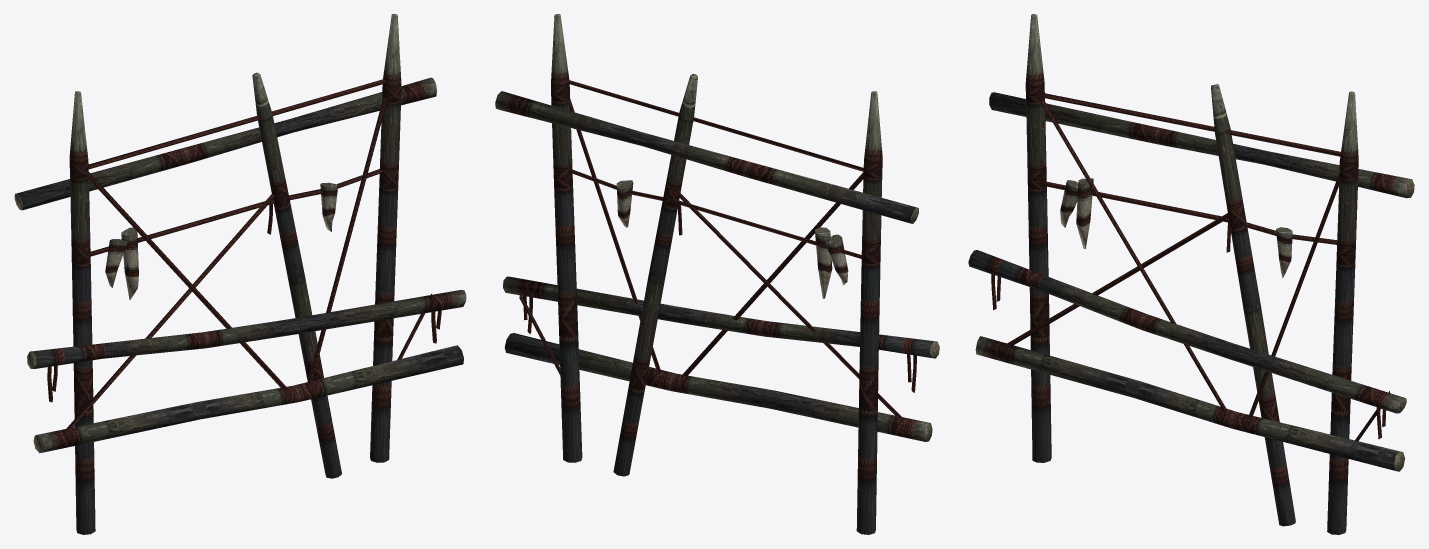
Rendered from camp_redthief_fence_01.fbx.
3 views of the same model, side by side, from view 1: azimuth 30°, elevation 25°; view 2: azimuth 150°, elevation 25°; view 3: azimuth 330°, elevation 25° (orthographic).
Parts seen in each view (by area): view 1: camp_redthief_fence_01; view 2: camp_redthief_fence_01; view 3: camp_redthief_fence_01.
Boxes of the visible parts, box(x1,y1,x2,y2) form: camp_redthief_fence_01: box(14, 14, 466, 534); camp_redthief_fence_01: box(495, 14, 939, 534); camp_redthief_fence_01: box(968, 14, 1414, 534).
Size of the model in its own units: 11.49 by 11.3 by 1.26.
